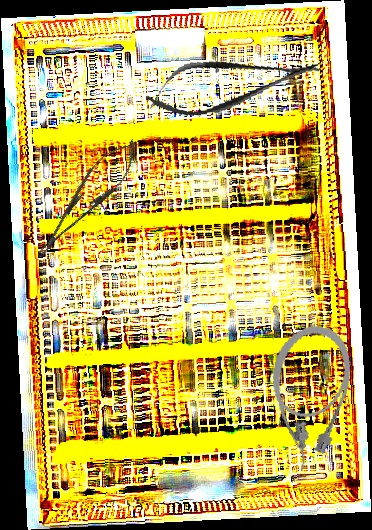Cannula: (253, 318, 360, 478)
Micro Scissor: (141, 42, 326, 125)
Needle Holder: (26, 129, 149, 266)
